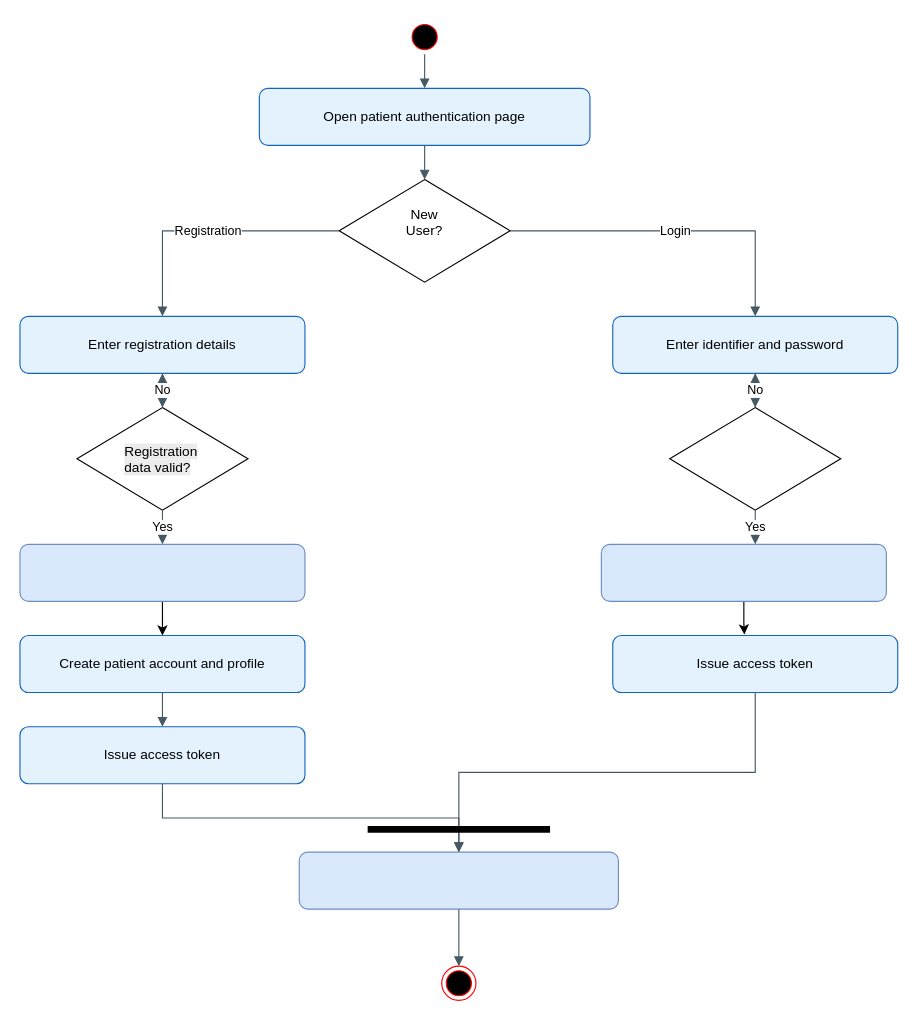
Some shapes in this 918 by 1020 pixel diagram are drawn without their labels. Here are the shapes that lost their labels. From the top down, the centre of each, then its label:
[755,458]: Credentials valid?
[162,572]: Show validation errors
[743,572]: Show login error
[458,880]: Open patient dashboard
